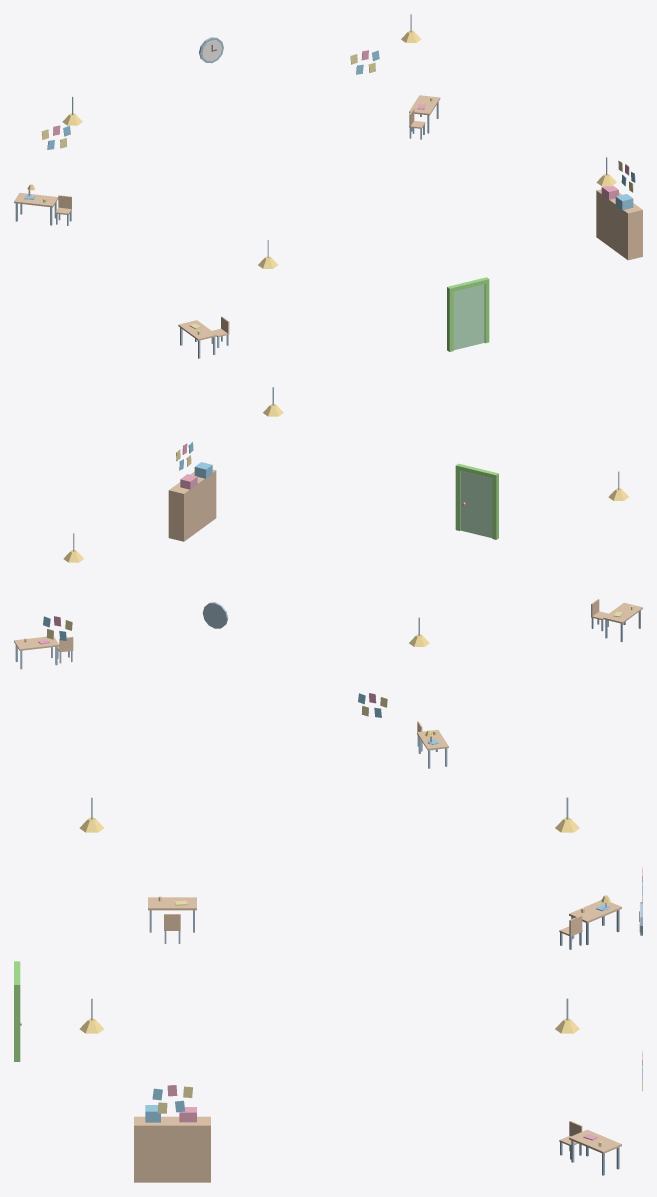
The model's file is Sala_Mobiliario.fbx.
3 views of the same model, one above another, from view 1: azimuth 30°, elevation 25°; view 2: azimuth 150°, elevation 25°; view 3: azimuth 270°, elevation 25° (orthographic). The views are drawn at different scales.
Parts seen in each view (by area): view 1: Puerta_Entrada, Estante_Trabajo, Pupitre_01, Pupitre_03, Pupitre_02, Reloj_Pared; view 2: Estante_Trabajo, Puerta_Entrada, Pupitre_02, Pupitre_03, Pupitre_01; view 3: Estante_Trabajo, Pupitre_02, Pupitre_01, Pupitre_03, Puerta_Entrada, Hojas_Pared_03.
Part boxes in pixels (left/top/right/bottom): Puerta_Entrada: left=447, top=277, right=489, bottom=351; Estante_Trabajo: left=596, top=185, right=642, bottom=260; Pupitre_01: left=14, top=193, right=58, bottom=225; Pupitre_03: left=178, top=320, right=216, bottom=358; Pupitre_02: left=409, top=95, right=440, bottom=133; Reloj_Pared: left=199, top=37, right=223, bottom=63; Estante_Trabajo: left=168, top=462, right=216, bottom=541; Puerta_Entrada: left=455, top=463, right=498, bottom=539; Pupitre_02: left=14, top=636, right=59, bottom=669; Pupitre_03: left=603, top=602, right=642, bottom=641; Pupitre_01: left=417, top=729, right=448, bottom=768; Estante_Trabajo: left=134, top=1105, right=210, bottom=1182; Pupitre_02: left=569, top=1129, right=621, bottom=1175; Pupitre_01: left=569, top=900, right=621, bottom=944; Pupitre_03: left=148, top=896, right=196, bottom=932; Puerta_Entrada: left=14, top=961, right=21, bottom=1061; Hojas_Pared_03: left=152, top=1085, right=192, bottom=1113.
Bounding box in the file's own units: 17.64 × 4.8 × 17.99.
